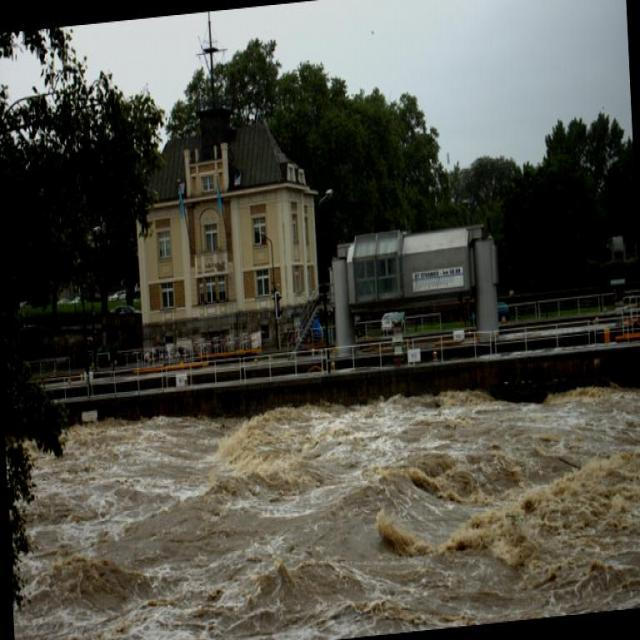flood: (13, 361, 639, 639)
